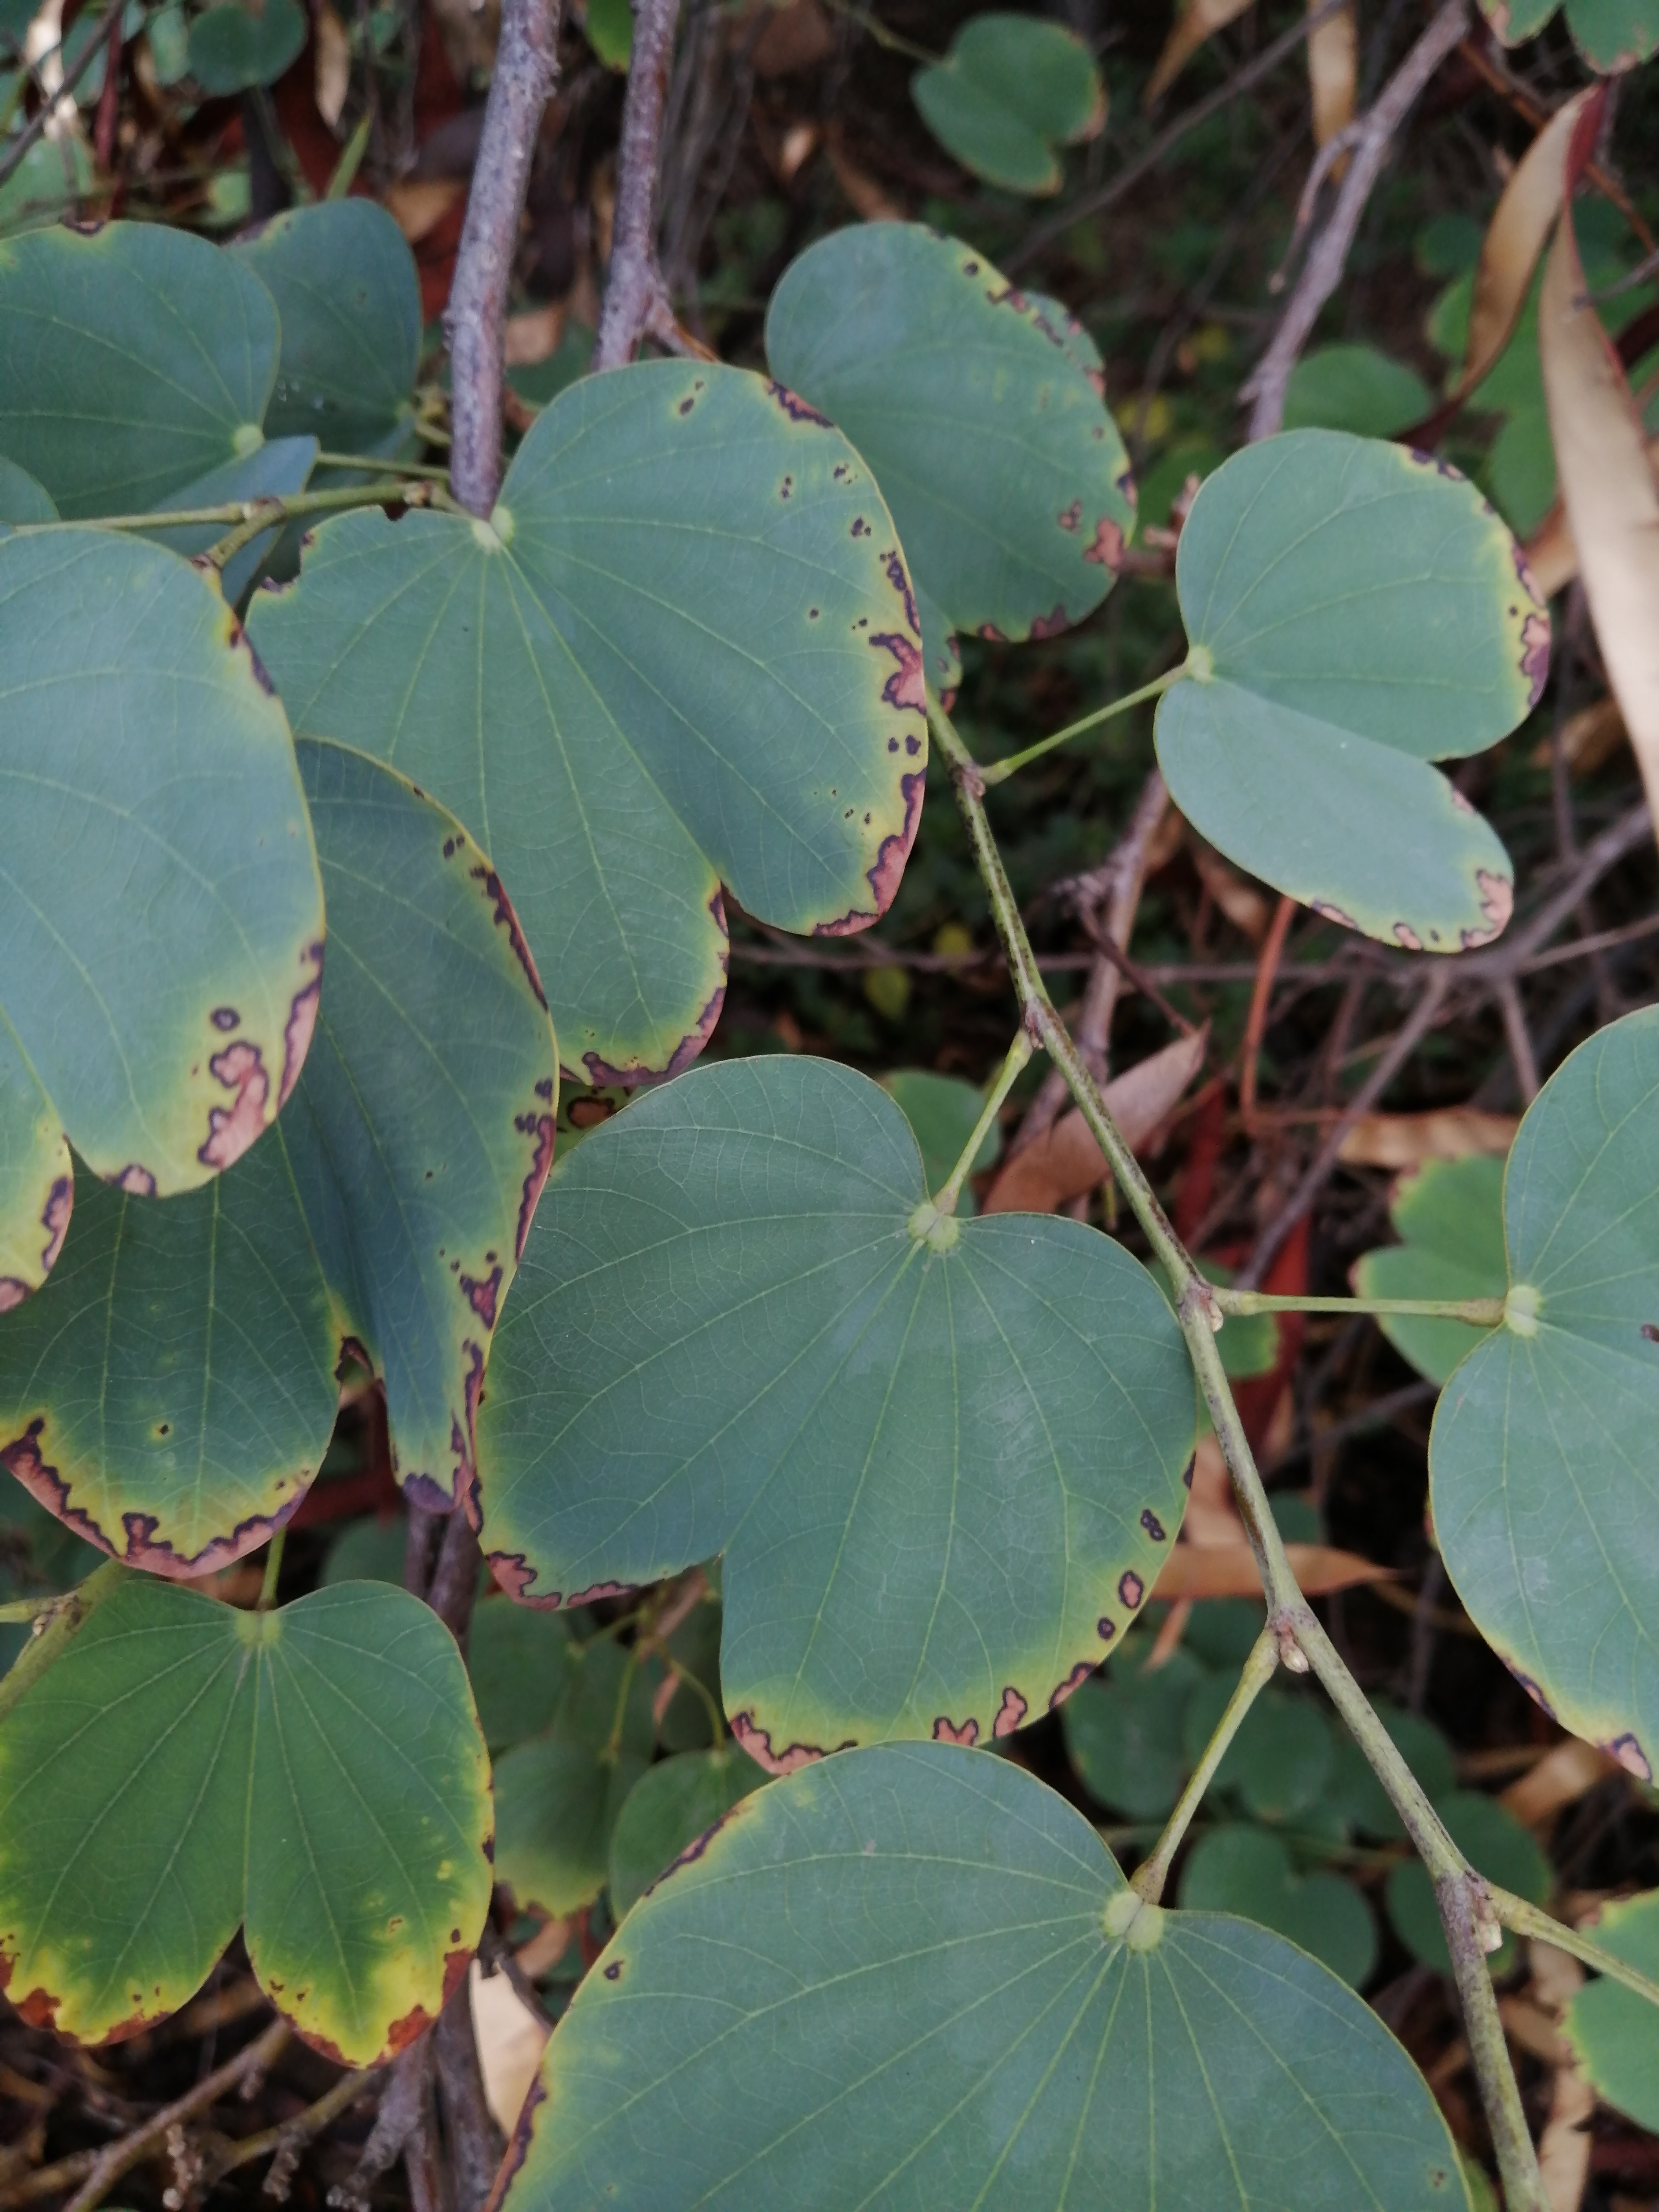nothealthy: (437, 1022, 1255, 1801), (220, 303, 934, 1083), (0, 495, 347, 1305), (0, 1541, 491, 2067), (1152, 421, 1567, 974)
